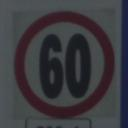speed_limit_60: (17, 7, 112, 117)
